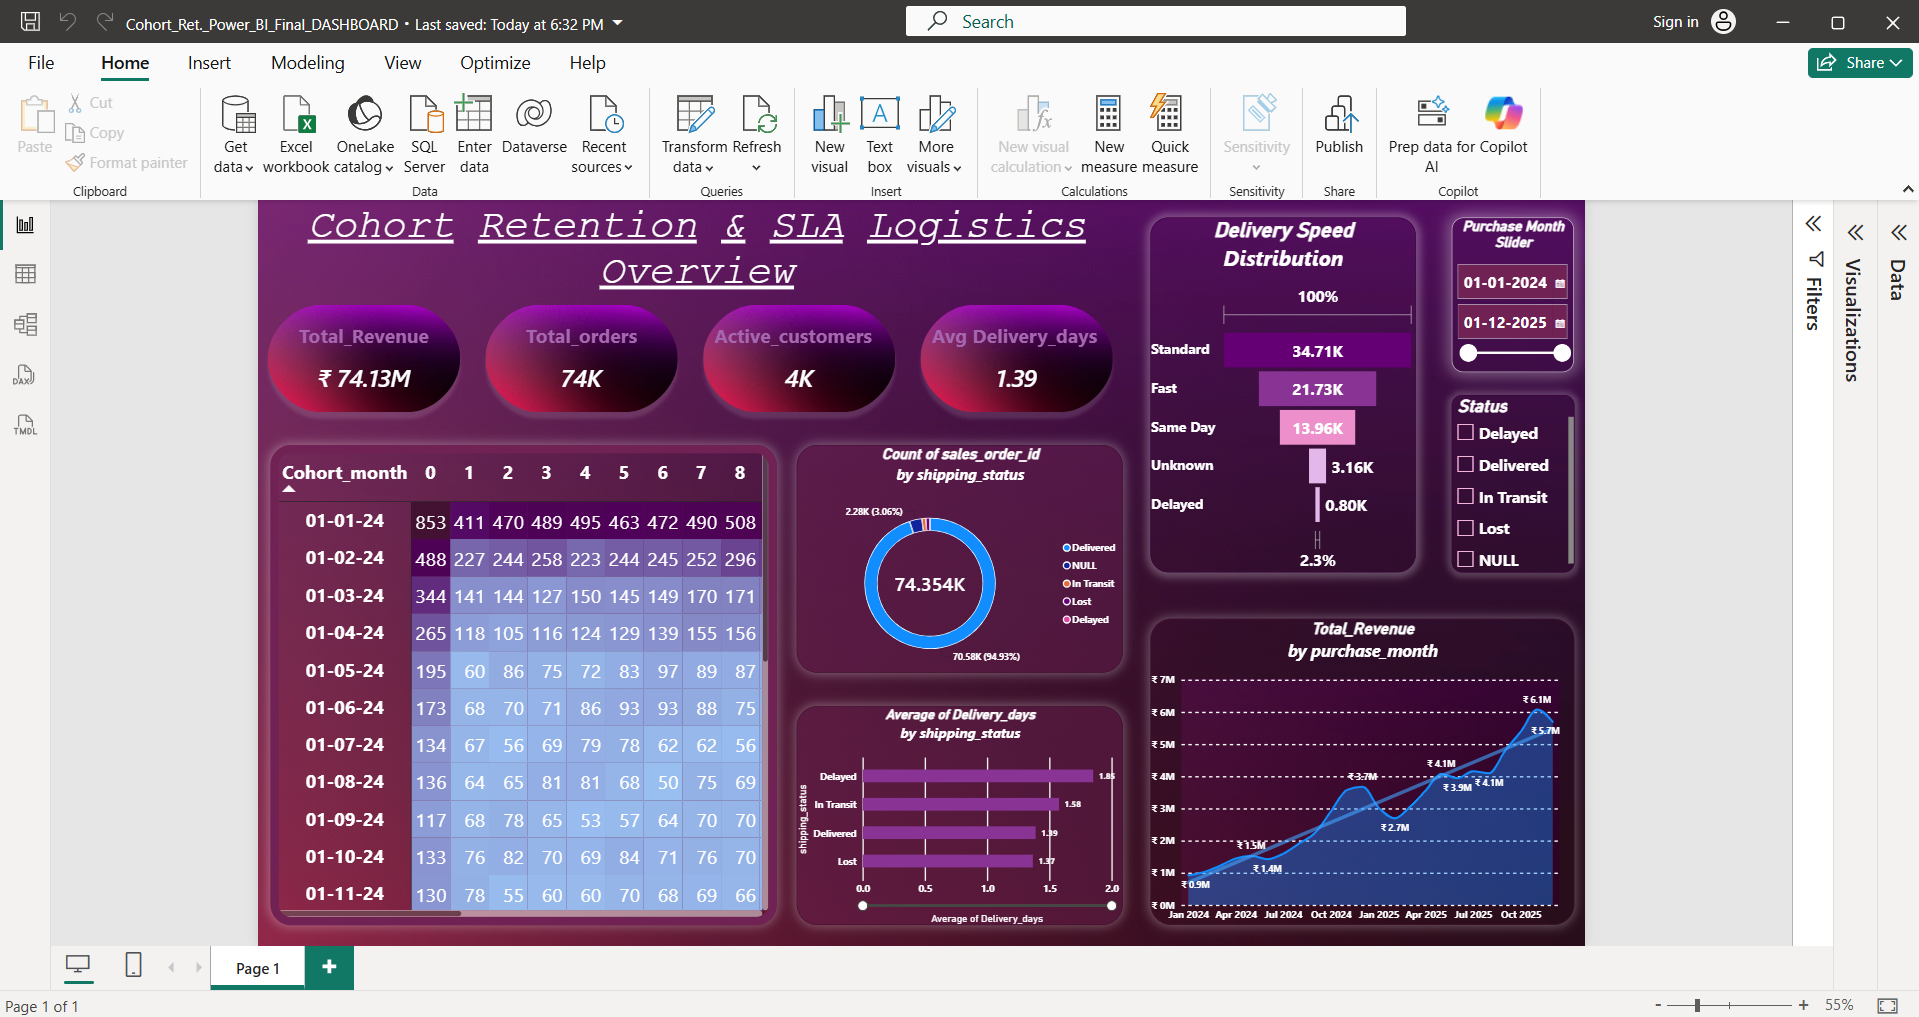

Layout of this report page (visuals, bound fields, positions):
{"tool":"powerbi","page":{"name":"Page 1","canvas":[1920,1080],"ordinal":0},"visuals":[{"type":"cardVisual","fields":{"Data":["Fact_Cohort_Retention.Total_Revenue","Fact_Cohort_Retention.Total_orders","Fact_Cohort_Retention.Active_customers","Fact_SLA_Logisitics.Avg Delivery_days"]},"box":[0,137.5,1252.3,184.6],"z":0},{"type":"pivotTable","fields":{"Columns":["Fact_Cohort_Retention.Month_number"],"Rows":["Fact_Cohort_Retention.Cohort_month"],"Values":["Fact_Cohort_Retention.Active_customers"]},"box":[18.1,354.7,732.9,694.9],"z":1000},{"type":"areaChart","fields":{"Category":["Fact_Cohort_Retention.purchase_month"],"Y":["Fact_Cohort_Retention.Total_Revenue"]},"box":[1292.1,606.2,613.5,443.4],"z":2000},{"type":"donutChart","fields":{"Category":["Fact_SLA_Logisitics.shipping_status"],"Y":["Count(Fact_SLA_Logisitics.sales_order_id)"]},"box":[780,354.7,472.3,329.4],"z":3000},{"type":"clusteredBarChart","fields":{"Category":["Fact_SLA_Logisitics.shipping_status"],"Y":["Avg(Fact_SLA_Logisitics.Delivery_days)"]},"box":[780,732.9,472.3,316.7],"z":4000},{"type":"slicer","title":"Purchase Month Slider","fields":{"Values":["Fact_Cohort_Retention.purchase_month"]},"box":[1728.2,25.3,177,224.4],"z":5000},{"type":"textbox","box":[18.1,5.4,1234.2,150.2],"z":6000},{"type":"funnel","title":"Delivery Speed","fields":{"Category":["Fact_SLA_Logisitics.Delivery Speed Bucket"],"Y":["Count(Fact_SLA_Logisitics.sales_order_id)"]},"box":[1292.1,25.3,383.6,513.9],"z":6001},{"type":"slicer","fields":{"Values":["Fact_SLA_Logisitics.shipping_status"]},"box":[1728.2,282.3,177.3,257],"z":6002}]}

Visuals, with their boxes on the page's 1920x1080 design canvas (x1, y1, x2, y2). These are canvas units, not pixel positions in the 1919x1017 screenshot, which may show the page scaled, cropped or inside an application window:
cardVisual - Fact_Cohort_Retention.Total_Revenue x Fact_Cohort_Retention.Total_orders: [0, 138, 1252, 322]
pivotTable - Fact_Cohort_Retention.Month_number x Fact_Cohort_Retention.Cohort_month: [18, 355, 751, 1050]
areaChart - Fact_Cohort_Retention.purchase_month x Fact_Cohort_Retention.Total_Revenue: [1292, 606, 1906, 1050]
donutChart - Fact_SLA_Logisitics.shipping_status x Count(Fact_SLA_Logisitics.sales_order_id): [780, 355, 1252, 684]
clusteredBarChart - Fact_SLA_Logisitics.shipping_status x Avg(Fact_SLA_Logisitics.Delivery_days): [780, 733, 1252, 1050]
"Purchase Month Slider" slicer: [1728, 25, 1905, 250]
textbox: [18, 5, 1252, 156]
"Delivery Speed" funnel: [1292, 25, 1676, 539]
slicer - Fact_SLA_Logisitics.shipping_status: [1728, 282, 1906, 539]
